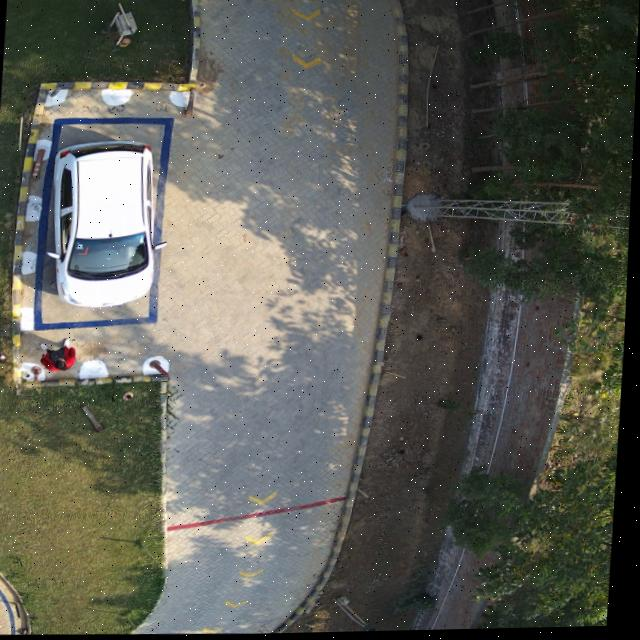car: (53, 140, 156, 309)
